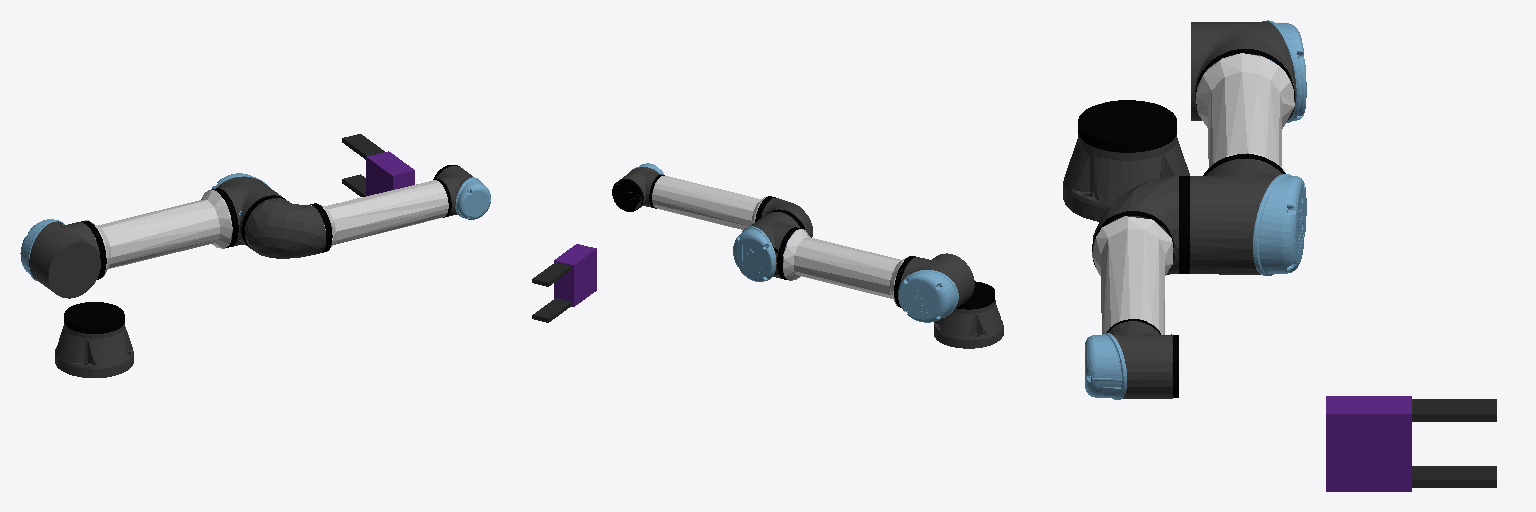
The robot description file, URDF, robot "ur_robot":
<?xml version="1.0" ?>
<!-- =================================================================================== -->
<!-- |    This document was autogenerated by xacro from /home/meta/Documents/robotics_workspace/install/ur_description/share/ur_description/urdf/ur.urdf.xacro | -->
<!-- |    EDITING THIS FILE BY HAND IS NOT RECOMMENDED                                 | -->
<!-- =================================================================================== -->
<robot name="ur_robot">
  <!--
    Base UR robot series xacro macro.

    NOTE this is NOT a URDF. It cannot directly be loaded by consumers
    expecting a flattened '.urdf' file. See the top-level '.xacro' for that
    (but note that .xacro must still be processed by the xacro command).

    This file models the base kinematic chain of a UR robot, which then gets
    parameterised by various configuration files to convert it into a UR3(e),
    UR5(e), UR10(e) or UR16e, etc.

    NOTE the default kinematic parameters (i.e., link lengths, frame locations,
    offsets, etc) do not correspond to any particular robot. They are defaults
    only. There WILL be non-zero offsets between the Forward Kinematics results
    in TF (i.e., robot_state_publisher) and the values reported by the Teach
    Pendant.

    For accurate (and robot-specific) transforms, the 'kinematics_parameters_file'
    parameter MUST point to a .yaml file containing the appropriate values for
    the targeted robot.

    If using the UniversalRobots/Universal_Robots_ROS_Driver, follow the steps
    described in the readme of that repository to extract the kinematic
    calibration from the controller and generate the required .yaml file.

    Main author of the migration to yaml configs Ludovic Delval.

    Contributors to previous versions (in no particular order)

     - Denis Stogl
     - Lovro Ivanov
     - Felix Messmer
     - Kelsey Hawkins
     - Wim Meeussen
     - Shaun Edwards
     - Nadia Hammoudeh Garcia
     - Dave Hershberger
     - G. vd. Hoorn
     - Philip Long
     - Dave Coleman
     - Miguel Prada
     - Mathias Luedtke
     - Marcel Schnirring
     - Felix von Drigalski
     - Felix Exner
     - Jimmy Da Silva
     - Ajit Krisshna N L
     - Muhammad Asif Rana
  -->
  <!-- create link fixed to the "world" -->
  <link name="world"/>
  <!-- links -  main serial chain -->
  <!-- base_link serves as the root of the robot's kinematic tree. It follows REP-103
        conventions (i.e., X+ forward, Y+ left, Z+ up).
        Since some kinematic solvers forbid having inertia values attached to a root link, we've
        added the base_link_inertia link that carries the visual, collision and inertia
        information.
    -->
  <link name="base_link"/>
  <link name="base_link_inertia">
    <visual>
      <origin rpy="0.0 0.0 3.141592653589793" xyz="0.0 0.0 0.0"/>
      <geometry>
        <mesh filename="package://robokpy_controller/meshes/ur5e/visual/base.dae"/>
      </geometry>
    </visual>
    <collision>
      <origin rpy="0.0 0.0 3.141592653589793" xyz="0.0 0.0 0.0"/>
      <geometry>
        <mesh filename="package://robokpy_controller/meshes/ur5e/collision/base.stl"/>
      </geometry>
    </collision>
    <inertial>
      <mass value="4.0"/>
      <origin rpy="0 0 0" xyz="0 0 0"/>
      <inertia ixx="0.00443333156" ixy="0.0" ixz="0.0" iyy="0.00443333156" iyz="0.0" izz="0.0072"/>
    </inertial>
  </link>
  <link name="shoulder_link">
    <visual>
      <origin rpy="0.0 0.0 3.141592653589793" xyz="0.0 0.0 0.0"/>
      <geometry>
        <mesh filename="package://robokpy_controller/meshes/ur5e/visual/shoulder.dae"/>
      </geometry>
    </visual>
    <collision>
      <origin rpy="0.0 0.0 3.141592653589793" xyz="0.0 0.0 0.0"/>
      <geometry>
        <mesh filename="package://robokpy_controller/meshes/ur5e/collision/shoulder.stl"/>
      </geometry>
    </collision>
    <inertial>
      <mass value="3.761"/>
      <origin rpy="1.570796326794897 0 0" xyz="0.0 -0.00193 -0.02561"/>
      <inertia ixx="0.0070021" ixy="7.3e-07" ixz="-1.053e-05" iyy="0.00648091" iyz="0.00049994" izz="0.00657286"/>
    </inertial>
  </link>
  <link name="upper_arm_link">
    <visual>
      <origin rpy="1.5707963267948966 0.0 -1.5707963267948966" xyz="0.0 0.0 0.138"/>
      <geometry>
        <mesh filename="package://robokpy_controller/meshes/ur5e/visual/upperarm.dae"/>
      </geometry>
    </visual>
    <collision>
      <origin rpy="1.5707963267948966 0.0 -1.5707963267948966" xyz="0.0 0.0 0.138"/>
      <geometry>
        <mesh filename="package://robokpy_controller/meshes/ur5e/collision/upperarm.stl"/>
      </geometry>
    </collision>
    <inertial>
      <mass value="8.058"/>
      <origin rpy="0 0 0" xyz="-0.2125 0.0 0.11336"/>
      <inertia ixx="0.01505885" ixy="-5.4e-05" ixz="5.63e-06" iyy="0.33388086" iyz="-1.81e-06" izz="0.33247207"/>
    </inertial>
  </link>
  <link name="forearm_link">
    <visual>
      <origin rpy="1.5707963267948966 0.0 -1.5707963267948966" xyz="0.0 0.0 0.007"/>
      <geometry>
        <mesh filename="package://robokpy_controller/meshes/ur5e/visual/forearm.dae"/>
      </geometry>
    </visual>
    <collision>
      <origin rpy="1.5707963267948966 0.0 -1.5707963267948966" xyz="0.0 0.0 0.007"/>
      <geometry>
        <mesh filename="package://robokpy_controller/meshes/ur5e/collision/forearm.stl"/>
      </geometry>
    </collision>
    <inertial>
      <mass value="2.846"/>
      <origin rpy="0 0 0" xyz="-0.2422 0.0 0.0265"/>
      <inertia ixx="0.00399632" ixy="-1.365e-05" ixz="0.00137272" iyy="0.07879254" iyz="-6.6e-06" izz="0.0784851"/>
    </inertial>
  </link>
  <link name="wrist_1_link">
    <visual>
      <origin rpy="1.5707963267948966 0.0 0.0" xyz="0.0 0.0 -0.127"/>
      <geometry>
        <mesh filename="package://robokpy_controller/meshes/ur5e/visual/wrist1.dae"/>
      </geometry>
    </visual>
    <collision>
      <origin rpy="1.5707963267948966 0.0 0.0" xyz="0.0 0.0 -0.127"/>
      <geometry>
        <mesh filename="package://robokpy_controller/meshes/ur5e/collision/wrist1.stl"/>
      </geometry>
    </collision>
    <inertial>
      <mass value="1.37"/>
      <origin rpy="1.570796326794897 0 0" xyz="0.0 -0.01634 -0.0018"/>
      <inertia ixx="0.00165491" ixy="-2.82e-06" ixz="-4.38e-06" iyy="0.00135962" iyz="0.00010157" izz="0.00126279"/>
    </inertial>
  </link>
  <link name="wrist_2_link">
    <visual>
      <origin rpy="0.0 0.0 0.0" xyz="0.0 0.0 -0.0997"/>
      <geometry>
        <mesh filename="package://robokpy_controller/meshes/ur5e/visual/wrist2.dae"/>
      </geometry>
    </visual>
    <collision>
      <origin rpy="0.0 0.0 0.0" xyz="0.0 0.0 -0.0997"/>
      <geometry>
        <mesh filename="package://robokpy_controller/meshes/ur5e/collision/wrist2.stl"/>
      </geometry>
    </collision>
    <inertial>
      <mass value="1.3"/>
      <origin rpy="-1.570796326794897 0 0" xyz="0.0 0.01634 -0.0018"/>
      <inertia ixx="0.00135617" ixy="-2.74e-06" ixz="4.44e-06" iyy="0.00127827" iyz="-5.048e-05" izz="0.00096614"/>
    </inertial>
  </link>
  <link name="wrist_3_link">
    <visual>
      <origin rpy="1.5707963267948966 0.0 0.0" xyz="0.0 0.0 -0.0989"/>
      <geometry>
        <mesh filename="package://robokpy_controller/meshes/ur5e/visual/wrist3.dae"/>
      </geometry>
    </visual>
    <collision>
      <origin rpy="1.5707963267948966 0.0 0.0" xyz="0.0 0.0 -0.0989"/>
      <geometry>
        <mesh filename="package://robokpy_controller/meshes/ur5e/collision/wrist3.stl"/>
      </geometry>
    </collision>
    <inertial>
      <mass value="0.365"/>
      <origin rpy="0 0 0" xyz="0.0 0.0 -0.001159"/>
      <inertia ixx="0.00018694" ixy="6e-08" ixz="-1.7e-07" iyy="0.00018908" iyz="-9.2e-07" izz="0.00025756"/>
    </inertial>
  </link>
  <!-- base_joint fixes base_link to the environment -->
  <joint name="base_joint" type="fixed">
    <origin rpy="0 0 0" xyz="0 0 0"/>
    <parent link="world"/>
    <child link="base_link"/>
  </joint>
  <!-- joints - main serial chain -->
  <joint name="base_link-base_link_inertia" type="fixed">
    <parent link="base_link"/>
    <child link="base_link_inertia"/>
    <!-- 'base_link' is REP-103 aligned (so X+ forward), while the internal
           frames of the robot/controller have X+ pointing backwards.
           Use the joint between 'base_link' and 'base_link_inertia' (a dummy
           link/frame) to introduce the necessary rotation over Z (of pi rad).
      -->
    <origin rpy="0 0 3.141592653589793" xyz="0 0 0"/>
  </joint>
  <joint name="shoulder_pan_joint" type="revolute">
    <parent link="base_link_inertia"/>
    <child link="shoulder_link"/>
    <origin rpy="0 0 0" xyz="0 0 0.1625"/>
    <axis xyz="0 0 1"/>
    <limit effort="150.0" lower="-6.283185307179586" upper="6.283185307179586" velocity="3.141592653589793"/>
    <dynamics damping="0" friction="0"/>
  </joint>
  <joint name="shoulder_lift_joint" type="revolute">
    <parent link="shoulder_link"/>
    <child link="upper_arm_link"/>
    <origin rpy="1.570796327 0 0" xyz="0 0 0"/>
    <axis xyz="0 0 1"/>
    <limit effort="150.0" lower="-6.283185307179586" upper="6.283185307179586" velocity="3.141592653589793"/>
    <dynamics damping="0" friction="0"/>
  </joint>
  <joint name="elbow_joint" type="revolute">
    <parent link="upper_arm_link"/>
    <child link="forearm_link"/>
    <origin rpy="0 0 0" xyz="-0.425 0 0"/>
    <axis xyz="0 0 1"/>
    <limit effort="150.0" lower="-3.141592653589793" upper="3.141592653589793" velocity="3.141592653589793"/>
    <dynamics damping="0" friction="0"/>
  </joint>
  <joint name="wrist_1_joint" type="revolute">
    <parent link="forearm_link"/>
    <child link="wrist_1_link"/>
    <origin rpy="0 0 0" xyz="-0.3922 0 0.1333"/>
    <axis xyz="0 0 1"/>
    <limit effort="28.0" lower="-6.283185307179586" upper="6.283185307179586" velocity="3.141592653589793"/>
    <dynamics damping="0" friction="0"/>
  </joint>
  <joint name="wrist_2_joint" type="revolute">
    <parent link="wrist_1_link"/>
    <child link="wrist_2_link"/>
    <origin rpy="1.570796327 0 0" xyz="0 -0.0997 -2.044881182297852e-11"/>
    <axis xyz="0 0 1"/>
    <limit effort="28.0" lower="-6.283185307179586" upper="6.283185307179586" velocity="3.141592653589793"/>
    <dynamics damping="0" friction="0"/>
  </joint>
  <joint name="wrist_3_joint" type="revolute">
    <parent link="wrist_2_link"/>
    <child link="wrist_3_link"/>
    <origin rpy="1.570796326589793 3.141592653589793 3.141592653589793" xyz="0 0.0996 -2.042830148012698e-11"/>
    <axis xyz="0 0 1"/>
    <limit effort="28.0" lower="-6.283185307179586" upper="6.283185307179586" velocity="3.141592653589793"/>
    <dynamics damping="0" friction="0"/>
  </joint>
  <link name="ft_frame"/>
  <joint name="wrist_3_link-ft_frame" type="fixed">
    <parent link="wrist_3_link"/>
    <child link="ft_frame"/>
    <origin rpy="3.141592653589793 0 0" xyz="0 0 0"/>
  </joint>
  <!-- ROS-Industrial 'base' frame - base_link to UR 'Base' Coordinates transform -->
  <link name="base"/>
  <joint name="base_link-base_fixed_joint" type="fixed">
    <!-- Note the rotation over Z of pi radians - as base_link is REP-103
           aligned (i.e., has X+ forward, Y+ left and Z+ up), this is needed
           to correctly align 'base' with the 'Base' coordinate system of
           the UR controller.
      -->
    <origin rpy="0 0 3.141592653589793" xyz="0 0 0"/>
    <parent link="base_link"/>
    <child link="base"/>
  </joint>
  <!-- ROS-Industrial 'flange' frame - attachment point for EEF models -->
  <link name="flange"/>
  <joint name="wrist_3-flange" type="fixed">
    <parent link="wrist_3_link"/>
    <child link="flange"/>
    <origin rpy="0 -1.5707963267948966 -1.5707963267948966" xyz="0 0 0"/>
  </joint>
 
  <!-- ROS-Industrial 'tool0' frame - all-zeros tool frame -->
  <link name="tool0"/>
  <joint name="flange-tool0" type="fixed">
    <!-- default toolframe - X+ left, Y+ up, Z+ front -->
    <origin rpy="1.5707963267948966 0 1.5707963267948966" xyz="0 0 0"/>
    <parent link="flange"/>
    <child link="tool0"/>
  </joint>

     <!-- =========================================================
       SIMPLE 2-FINGER GRIPPER (gz_ros2_control_demos test gripper)
       Swapped in temporarily to verify the pipeline mechanics
       (native mimic, controller wiring, build/launch) independent of
       Robotiq-specific complexity (8 joints, mesh collisions, custom
       PD tuning). Robotiq section removed for this phase, not
       deleted — will be reintroduced once this baseline is confirmed
       working end-to-end.

       Link names renamed from the demo's originals ("base", "world")
       to avoid collisions with this file's existing UR5e "base" and
       "world" links. Mounted to tool0 (fixed) instead of world.
       ========================================================= -->

  <joint name="tool0_to_gripper_mount" type="fixed">
    <origin rpy="0 0 0" xyz="0 0 0"/>
    <parent link="tool0"/>
    <child link="gripper_mount_base"/>
  </joint>

  <link name="gripper_mount_base">
    <visual>
      <geometry>
        <box size="0.05 0.10 0.10"/>
      </geometry>
      <origin xyz="0 0 0.05"/>
      <material name="violet">
        <color rgba="0.4 0.18 0.57 1.0"/>
      </material>
    </visual>
    <collision>
      <geometry>
        <box size="0.05 0.10 0.10"/>
      </geometry>
      <origin xyz="0 0 0.05"/>
    </collision>
    <inertial>
      <origin xyz="0 0 0.05"/>
      <mass value="0.5"/>
      <inertia ixx="0.0005" ixy="0" ixz="0" iyy="0.0005" iyz="0" izz="0.0005"/>
    </inertial>
  </link>

  <link name="finger_right">
    <visual>
      <geometry>
        <box size="0.04 0.01 0.10"/>
      </geometry>
      <origin xyz="0 0.005 0.05"/>
      <material name="grey">
        <color rgba="0.2 0.2 0.2 1"/>
      </material>
    </visual>
    <collision>
      <geometry>
        <box size="0.04 0.01 0.10"/>
      </geometry>
      <origin xyz="0 0.005 0.05"/>
    </collision>
    <inertial>
      <origin xyz="0 0.005 0.05"/>
      <mass value="0.04"/>
      <inertia ixx="1e-5" ixy="0" ixz="0" iyy="1e-5" iyz="0" izz="1e-5"/>
    </inertial>
  </link>

  <link name="finger_left">
    <visual>
      <geometry>
        <box size="0.04 0.01 0.10"/>
      </geometry>
      <origin xyz="0 0.005 0.05"/>
      <material name="grey">
        <color rgba="0.2 0.2 0.2 1"/>
      </material>
    </visual>
    <collision>
      <geometry>
        <box size="0.04 0.01 0.10"/>
      </geometry>
      <origin xyz="0 0.005 0.05"/>
    </collision>
    <inertial>
      <origin xyz="0 0.005 0.05"/>
      <mass value="0.04"/>
      <inertia ixx="1e-5" ixy="0" ixz="0" iyy="1e-5" iyz="0" izz="1e-5"/>
    </inertial>
  </link>

  <joint name="right_finger_joint" type="prismatic">
    <axis xyz="0 1 0"/>
    <origin xyz="0.0 -0.048 0.10" rpy="0.0 0.0 0.0"/>
    <parent link="gripper_mount_base"/>
    <child link="finger_right"/>
    <limit effort="1000.0" lower="0" upper="0.038" velocity="10.0"/>
  </joint>

  <joint name="left_finger_joint" type="prismatic">
    <mimic joint="right_finger_joint"/>
    <axis xyz="0 1 0"/>
    <origin xyz="0.0 0.048 0.10" rpy="0.0 0.0 3.1415926535"/>
    <parent link="gripper_mount_base"/>
    <child link="finger_left"/>
    <limit effort="1000.0" lower="0" upper="0.038" velocity="10.0"/>
  </joint>

  <!-- TCP frame - mirrors sim's tool0->robotiq_85_base_link->tcp chain, collapsed into one fixed offset -->
<link name="tcp"/>
  <joint name="tool0-tcp" type="fixed">
    <parent link="tool0"/>
    <child link="tcp"/>
    <origin rpy="0 0 0" xyz="0 0 0.104"/>
  </joint>
</robot>

--- Facts derived from the render (not from the file) ---
3 views of the same robot in one strip: view 1: azimuth 30°, elevation 25°; view 2: azimuth 150°, elevation 25°; view 3: azimuth 270°, elevation 25° (orthographic).
Robot: ur_robot — 17 links, 16 joints (6 revolute, 2 prismatic, 8 fixed); root link world; default pose: all joints at 0.
Visible links, largest first — view 1: upper_arm_link, forearm_link, base_link_inertia, gripper_mount_base, finger_left; view 2: upper_arm_link, forearm_link, base_link_inertia, gripper_mount_base, finger_left, finger_right; view 3: upper_arm_link, forearm_link, base_link_inertia, gripper_mount_base, finger_left, finger_right.
Boxes of the visible links, x1,y1,x2,y2 form: upper_arm_link: (20, 173, 288, 298); forearm_link: (245, 165, 490, 258); base_link_inertia: (55, 302, 133, 377); gripper_mount_base: (366, 151, 414, 195); finger_left: (342, 134, 384, 159); upper_arm_link: (733, 209, 974, 322); forearm_link: (612, 163, 812, 237); base_link_inertia: (934, 281, 1003, 348); gripper_mount_base: (554, 244, 596, 306); finger_left: (532, 262, 571, 286); finger_right: (532, 298, 571, 322); upper_arm_link: (1179, 20, 1306, 275); forearm_link: (1085, 176, 1178, 399); base_link_inertia: (1063, 100, 1189, 221); gripper_mount_base: (1326, 396, 1411, 491); finger_left: (1412, 399, 1496, 421); finger_right: (1412, 466, 1496, 487).
Bounding box of the posed robot: 0.9313 × 0.5086 × 0.2226 m (x, y, z).
Meshes: 7 distinct files referenced, 3 mesh visuals loaded (3 Collada DAE); not drawn: 4 (reference not matched to a file when rendering).
